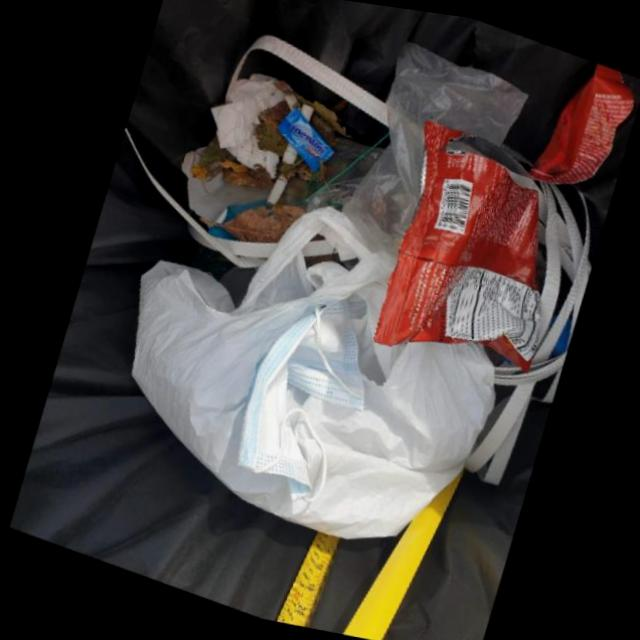bao_bi_thuc_pham: (369, 65, 637, 369)
la_cay: (272, 85, 347, 150), (201, 208, 304, 248), (250, 103, 290, 162), (189, 138, 233, 184), (211, 166, 273, 197), (276, 158, 324, 188)
tui_ni_long: (129, 205, 493, 541)
